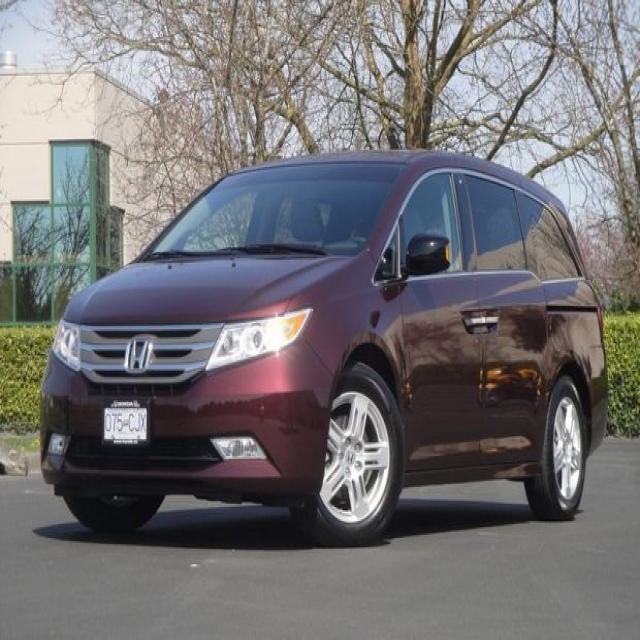car: (40, 148, 610, 548)
